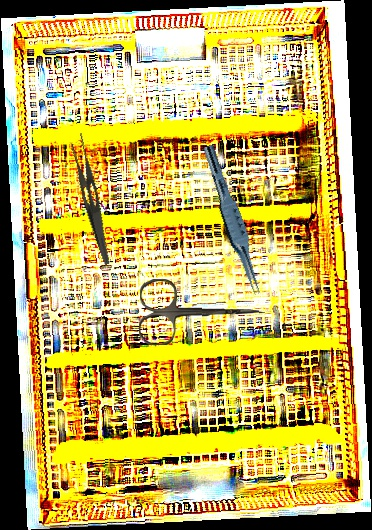Dressing Forceps: (62, 132, 125, 266)
Iris Scissors: (138, 278, 266, 347)
Tissue Forceps: (194, 143, 270, 298)
